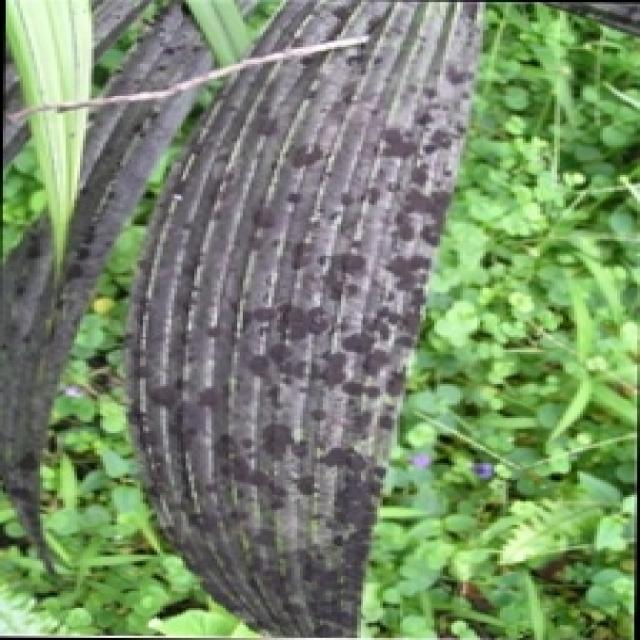Sooty Mold: (120, 0, 483, 636), (0, 0, 369, 585)
